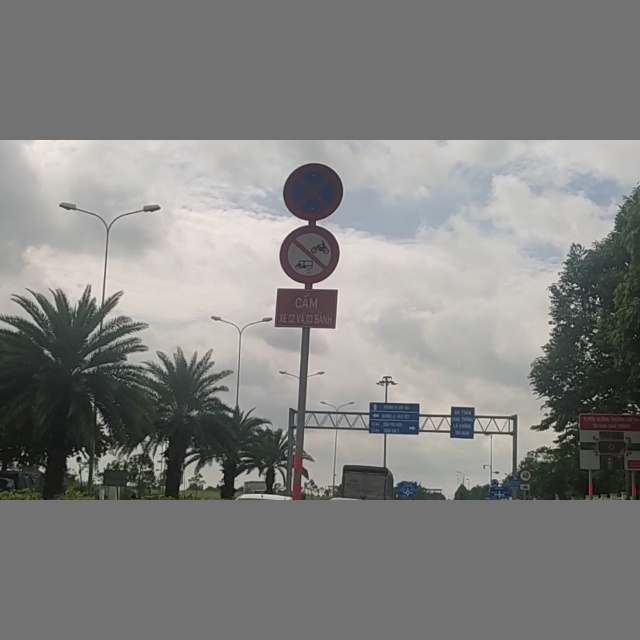P.111: (278, 225, 341, 284)
P.130: (277, 162, 344, 224)
